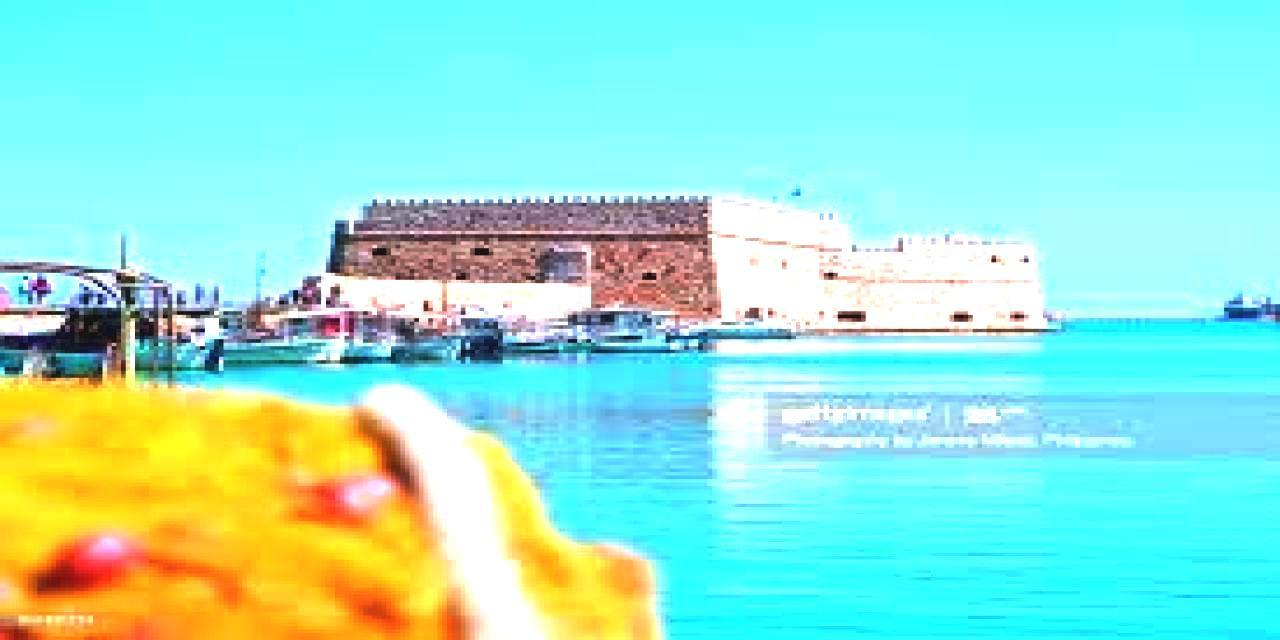Kules: (326, 185, 1063, 339)
